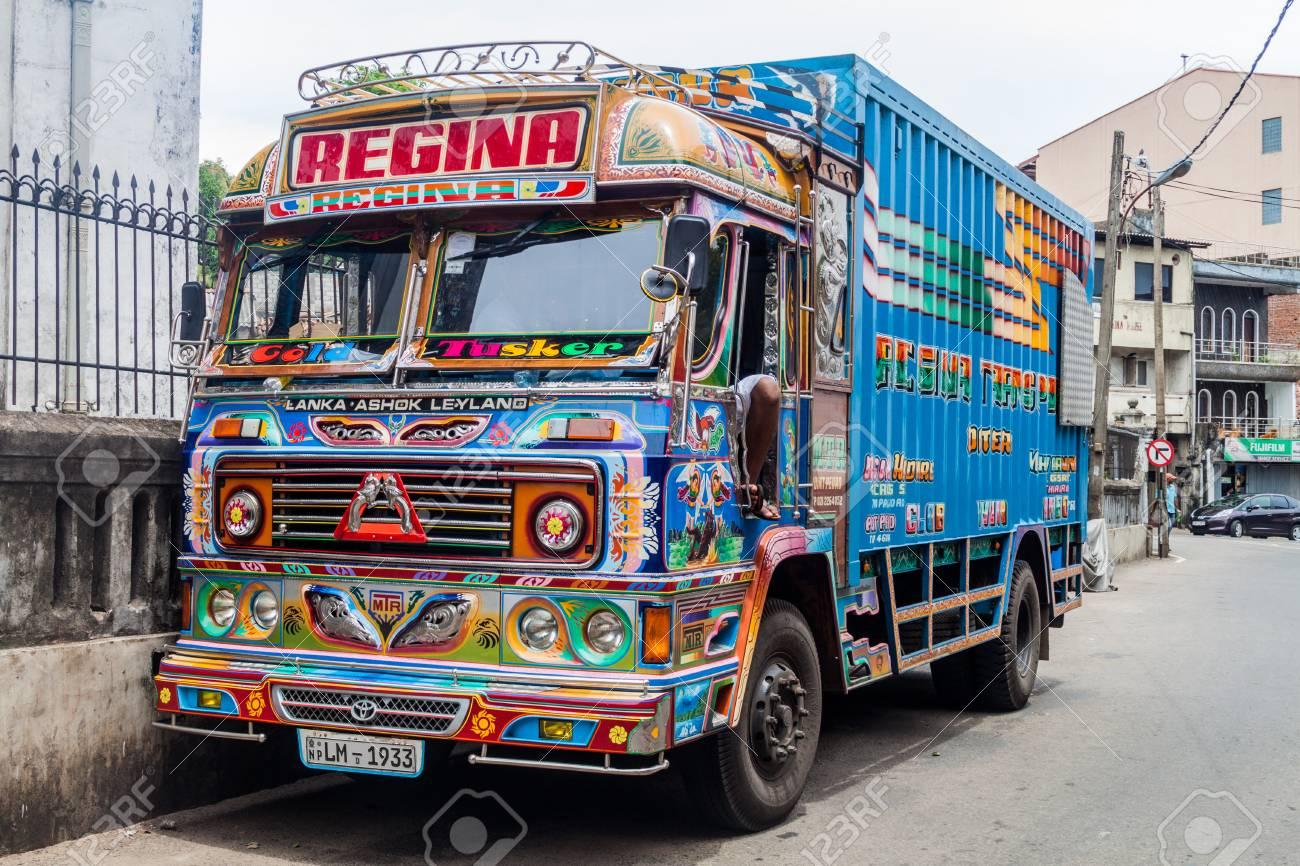car: (1186, 493, 1300, 539)
truck: (150, 39, 1096, 836)
